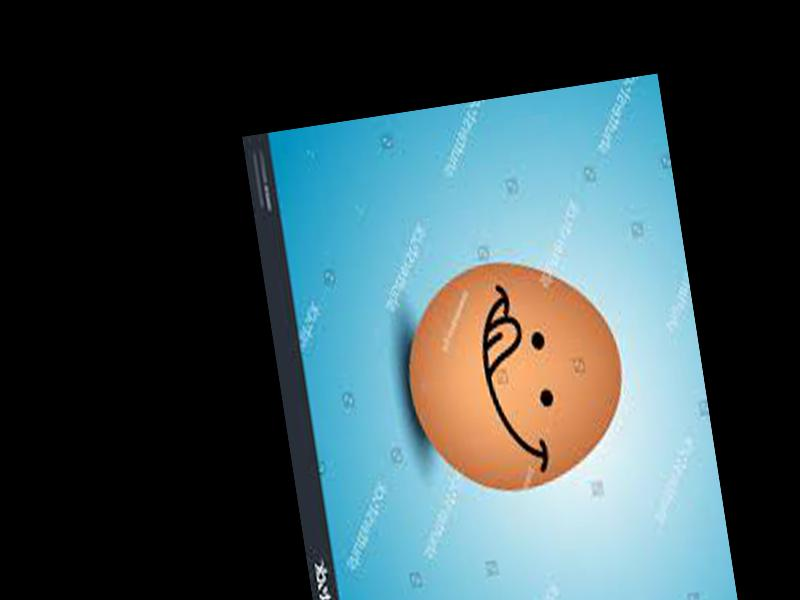Eggs: (393, 245, 637, 504)
